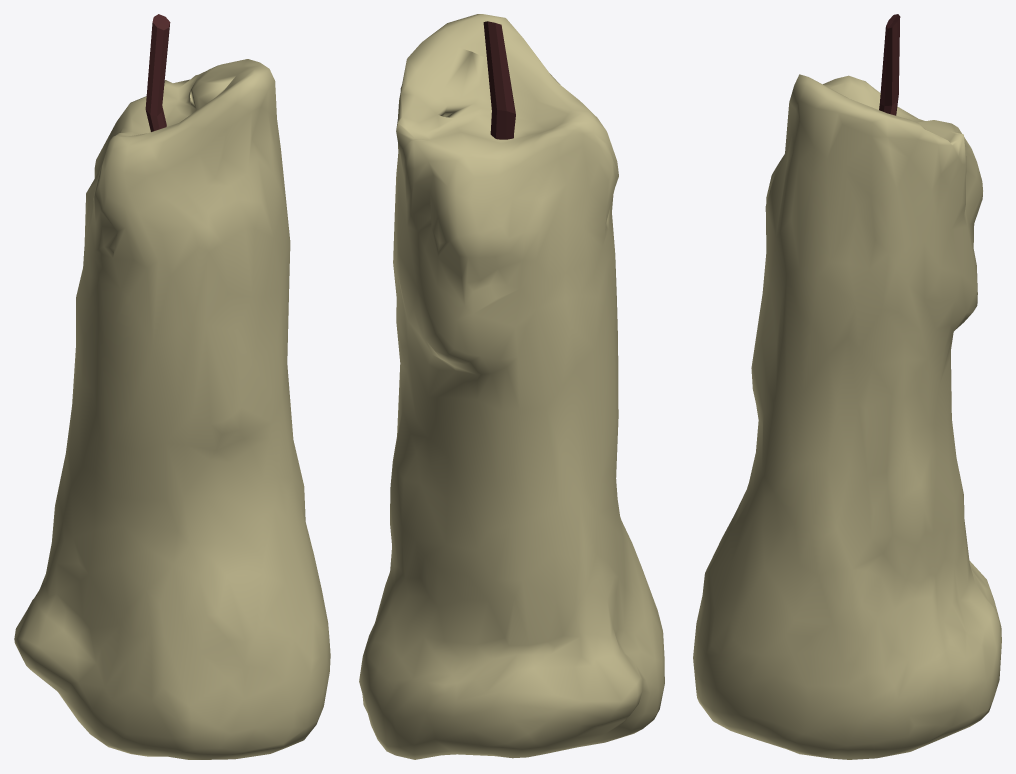
Rendered from candle.fbx.
3 views of the same model, side by side, from view 1: azimuth 30°, elevation 25°; view 2: azimuth 150°, elevation 25°; view 3: azimuth 270°, elevation 25° (orthographic). The views are drawn at different scales.
Parts seen in each view (by area): view 1: candle; view 2: candle; view 3: candle.
Boxes of the visible parts, <box> form: candle: <box>14,14,330,759</box>; candle: <box>359,14,664,759</box>; candle: <box>693,14,1001,759</box>.
Size of the model in its own units: 84.74 by 216 by 86.76.
